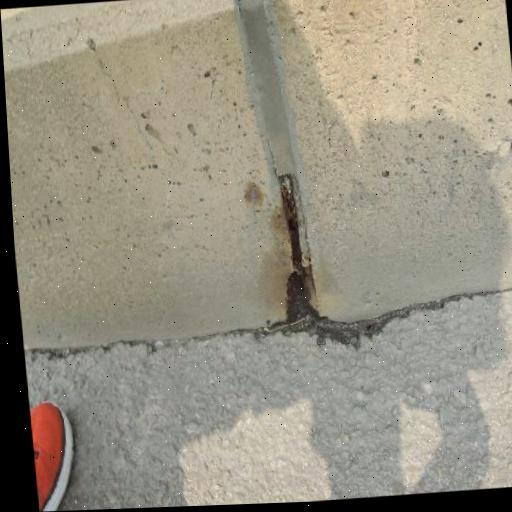exposed_rebar: (278, 173, 318, 322)
